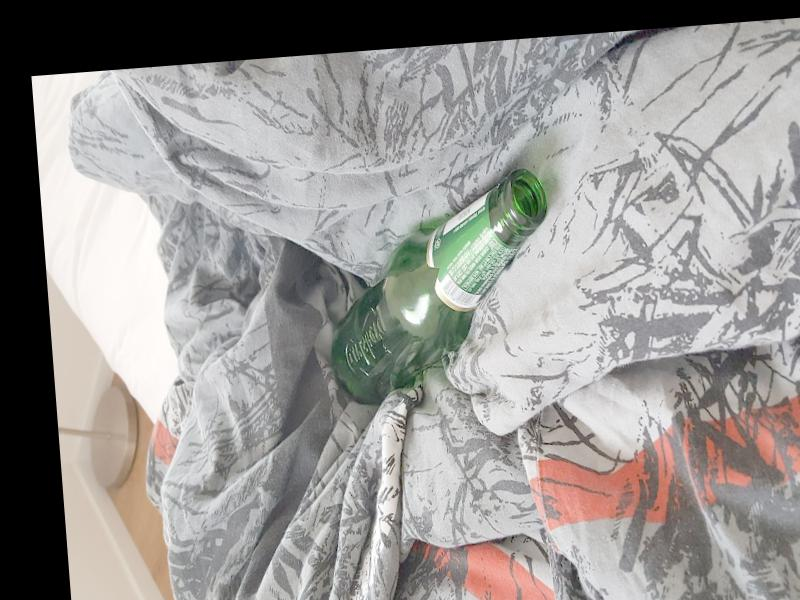Beer: (319, 171, 563, 406)
